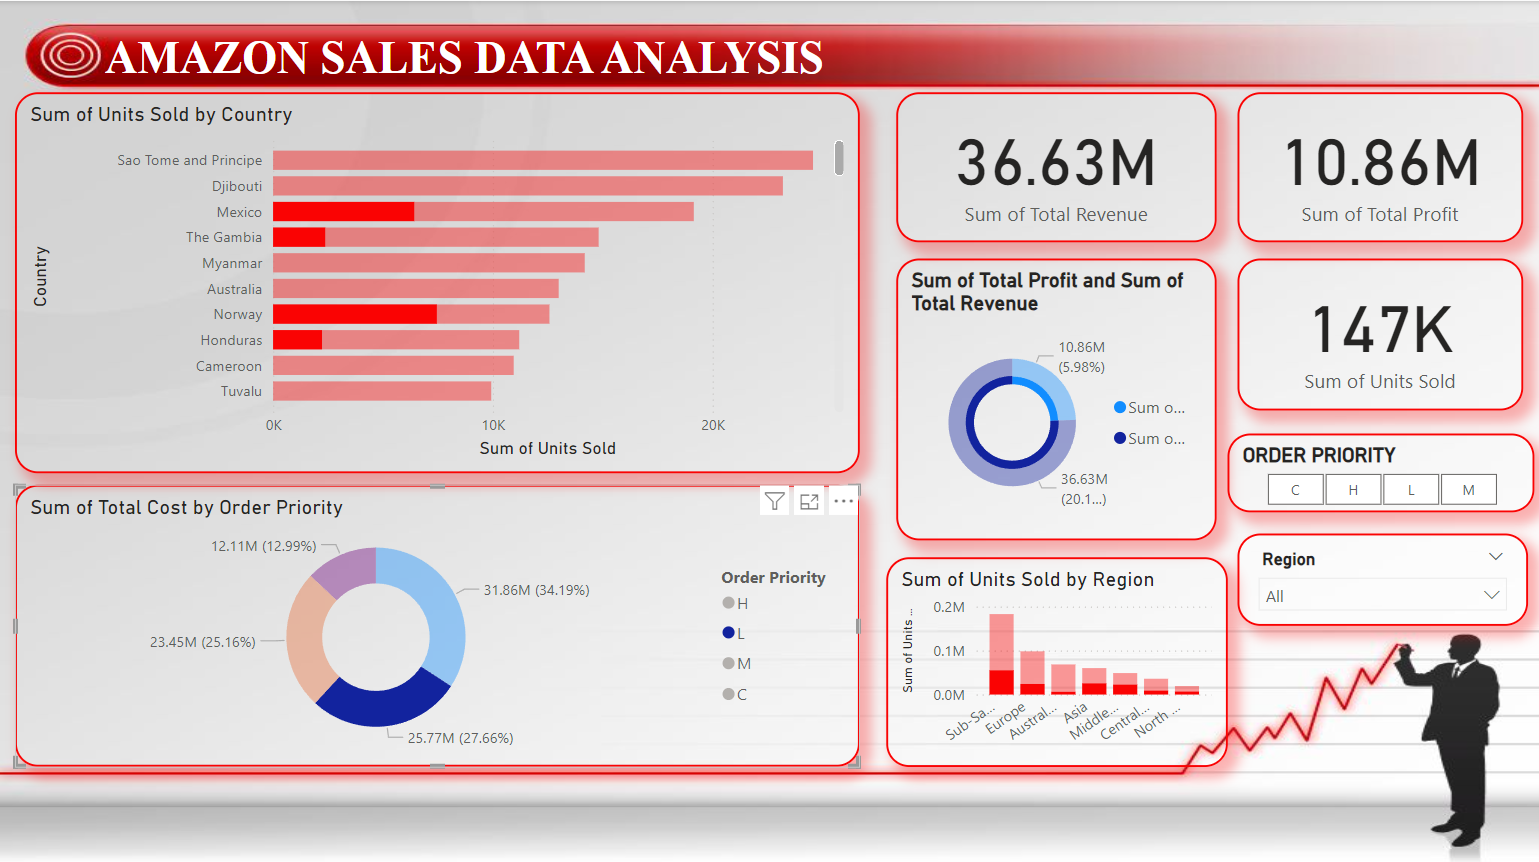

Layout of this report page (visuals, bound fields, positions):
{"tool":"powerbi","page":{"name":"Page 1","canvas":[1280,720],"ordinal":0},"visuals":[{"type":"card","fields":{"Values":["Sum(Amazon Sales data.Units Sold)"]},"box":[1029.2,214.1,237.4,126.2],"z":0},{"type":"card","fields":{"Values":["Sum(Amazon Sales data.Total Profit)"]},"box":[1029.2,75.5,237.4,124.9],"z":1000},{"type":"card","fields":{"Values":["Sum(Amazon Sales data.Total Revenue)"]},"box":[745.1,75.5,266.2,124.9],"z":2000},{"type":"textbox","box":[82.3,20.6,662.8,64.5],"z":3000},{"type":"donutChart","fields":{"Category":["Amazon Sales data.Order Priority"],"Y":["Sum(Amazon Sales data.Total Cost)"]},"box":[12.3,402.1,702.6,234.6],"z":5000},{"type":"donutChart","fields":{"Y":["Sum(Amazon Sales data.Total Profit)","Sum(Amazon Sales data.Total Revenue)"]},"box":[745.1,214.1,266.2,234.6],"z":6000},{"type":"slicer","title":"ORDER PRIORITY","fields":{"Values":["Amazon Sales data.Order Priority"]},"box":[1020.9,359.5,255.2,65.9],"z":7000},{"type":"clusteredBarChart","fields":{"Category":["Amazon Sales data.Country"],"Y":["Sum(Amazon Sales data.Units Sold)"]},"box":[12.3,75.5,702.6,317],"z":7001},{"type":"clusteredColumnChart","fields":{"Y":["Sum(Amazon Sales data.Units Sold)"],"Category":["Amazon Sales data.Region"]},"box":[736.9,462.4,284,174.3],"z":7002},{"type":"slicer","fields":{"Values":["Amazon Sales data.Region"]},"box":[1029.2,443.2,241.5,76.8],"z":7003}]}

Visuals, with their boxes in screenshot pixels (x1, y1, x2, y2), scaled from the page's 1280x720 canvas onto the 1539x862 screenshot:
card - Sum(Amazon Sales data.Units Sold): x1=1237, y1=256, x2=1523, y2=407
card - Sum(Amazon Sales data.Total Profit): x1=1237, y1=90, x2=1523, y2=240
card - Sum(Amazon Sales data.Total Revenue): x1=896, y1=90, x2=1216, y2=240
textbox: x1=99, y1=25, x2=896, y2=102
donutChart - Amazon Sales data.Order Priority x Sum(Amazon Sales data.Total Cost): x1=15, y1=481, x2=860, y2=762
donutChart - Sum(Amazon Sales data.Total Profit) x Sum(Amazon Sales data.Total Revenue): x1=896, y1=256, x2=1216, y2=537
"ORDER PRIORITY" slicer: x1=1227, y1=430, x2=1534, y2=509
clusteredBarChart - Amazon Sales data.Country x Sum(Amazon Sales data.Units Sold): x1=15, y1=90, x2=860, y2=470
clusteredColumnChart - Sum(Amazon Sales data.Units Sold) x Amazon Sales data.Region: x1=886, y1=554, x2=1227, y2=762
slicer - Amazon Sales data.Region: x1=1237, y1=531, x2=1528, y2=623
